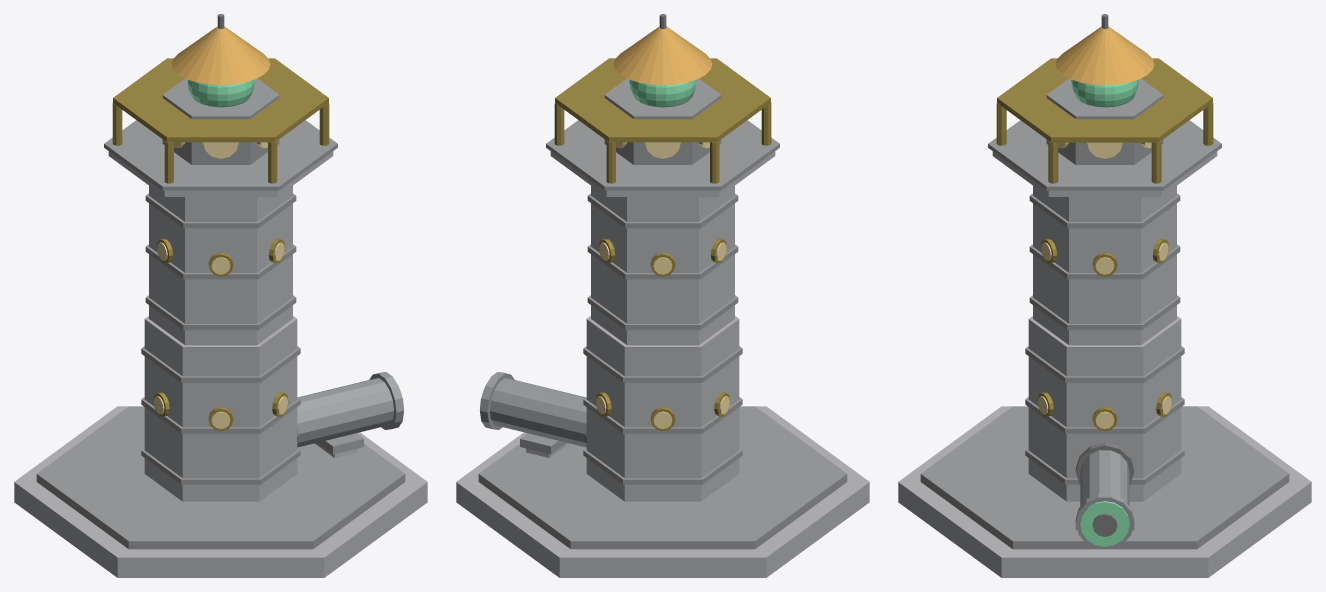
Rendered from beacon_s2_100.glb.
3 views of the same model, side by side, from view 1: azimuth 30°, elevation 25°; view 2: azimuth 150°, elevation 25°; view 3: azimuth 270°, elevation 25° (orthographic).
Visible parts, largest first — view 1: BC_BaseCap, BC_Shaft1, BC_Shaft2, BC_Base, BC_RailRing_Top, BC_PlatformTrim, BC_PipeStub_0, BC_Dome, BC_Lantern_Room, BC_PlatformBase, BC_SignalLamp, BC_Shaft1_Ring_2 (+7 smaller); view 2: BC_BaseCap, BC_Shaft1, BC_Shaft2, BC_Base, BC_RailRing_Top, BC_PlatformTrim, BC_PipeStub_0, BC_Dome, BC_Lantern_Room, BC_PlatformBase, BC_SignalLamp, BC_Shaft1_Ring_2 (+7 smaller); view 3: BC_BaseCap, BC_Shaft1, BC_Shaft2, BC_Base, BC_RailRing_Top, BC_PlatformTrim, BC_Dome, BC_Lantern_Room, BC_PipeStub_0, BC_PlatformBase, BC_SignalLamp, BC_Flange_0_led (+8 smaller).
Boxes of the visible parts, x1,y1,x2,y2 form: BC_BaseCap: [36, 406, 405, 549]; BC_Shaft1: [144, 316, 297, 501]; BC_Shaft2: [149, 186, 292, 345]; BC_Base: [14, 406, 427, 577]; BC_RailRing_Top: [113, 58, 328, 142]; BC_PlatformTrim: [104, 120, 337, 190]; BC_PipeStub_0: [297, 378, 393, 447]; BC_Dome: [171, 26, 270, 84]; BC_Lantern_Room: [162, 78, 279, 164]; BC_PlatformBase: [108, 151, 333, 196]; BC_SignalLamp: [187, 80, 254, 107]; BC_Shaft1_Ring_2: [141, 346, 300, 382]; BC_BaseCap: [478, 406, 847, 549]; BC_Shaft1: [586, 316, 739, 501]; BC_Shaft2: [591, 186, 734, 345]; BC_Base: [456, 406, 869, 577]; BC_RailRing_Top: [555, 58, 770, 142]; BC_PlatformTrim: [546, 120, 779, 190]; BC_PipeStub_0: [490, 378, 586, 447]; BC_Dome: [613, 26, 712, 84]; BC_Lantern_Room: [604, 78, 721, 164]; BC_PlatformBase: [550, 151, 775, 196]; BC_SignalLamp: [629, 80, 696, 107]; BC_Shaft1_Ring_2: [583, 346, 742, 382]; BC_BaseCap: [920, 406, 1289, 549]; BC_Shaft1: [1028, 316, 1181, 501]; BC_Shaft2: [1033, 186, 1176, 345]; BC_Base: [898, 406, 1311, 577]; BC_RailRing_Top: [997, 58, 1212, 142]; BC_PlatformTrim: [988, 120, 1221, 190]; BC_Dome: [1055, 26, 1154, 85]; BC_Lantern_Room: [1046, 78, 1163, 164]; BC_PipeStub_0: [1080, 450, 1129, 505]; BC_PlatformBase: [992, 151, 1217, 196]; BC_SignalLamp: [1071, 79, 1138, 107]; BC_Flange_0_led: [1080, 501, 1129, 546].
Size of the model in its own units: 1.69 by 2.39 by 1.84.
